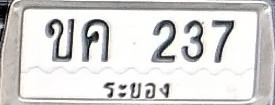2: (150, 18, 176, 62)
3: (181, 19, 204, 62)
7: (211, 19, 235, 63)
A02: (45, 18, 74, 62)
A04: (81, 18, 110, 62)
RYG: (101, 75, 175, 104)
